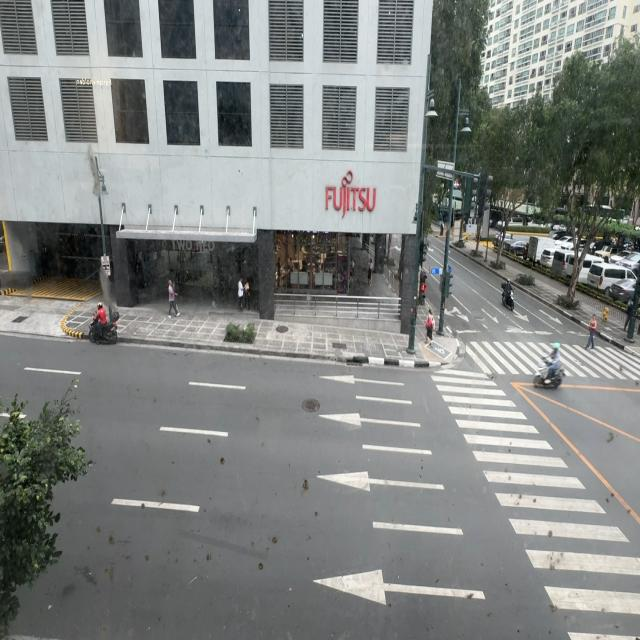crossing: (585, 314, 597, 349)
